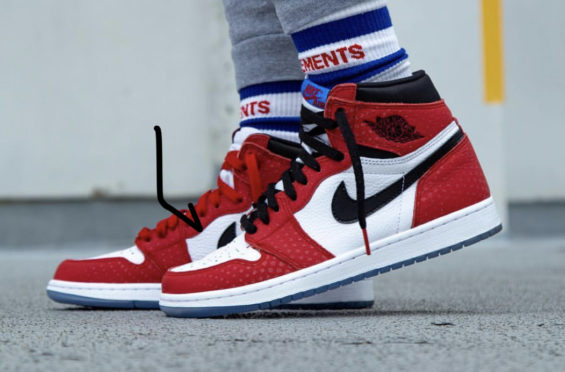Air Jordan 1 Spiderman: (157, 66, 507, 322), (37, 124, 379, 311)
